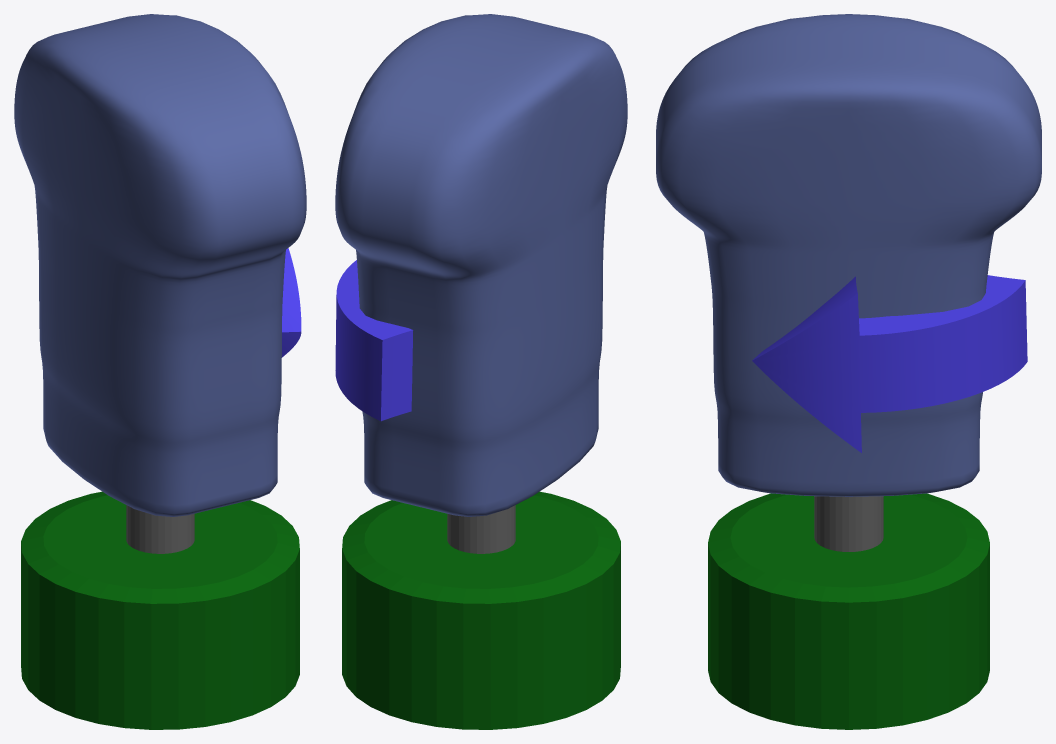
Rendered from Brioche_Bag_Right.fbx.
3 renders of one model, left to right at view 1: azimuth 30°, elevation 25°; view 2: azimuth 150°, elevation 25°; view 3: azimuth 270°, elevation 25°, orthographic.
Parts seen in each view (by area): view 1: BriocheBag, Socle, Cylinder, Right_ARROW; view 2: BriocheBag, Socle, Right_ARROW, Cylinder; view 3: BriocheBag, Socle, Right_ARROW, Cylinder.
Boxes of the visible parts, x1=… form: BriocheBag: x1=14, y1=14, x2=306, y2=516; Socle: x1=21, y1=491, x2=299, y2=729; Cylinder: x1=126, y1=505, x2=194, y2=553; Right_ARROW: x1=281, y1=248, x2=301, y2=357; BriocheBag: x1=335, y1=14, x2=627, y2=516; Socle: x1=342, y1=491, x2=620, y2=729; Right_ARROW: x1=335, y1=260, x2=413, y2=421; Cylinder: x1=447, y1=505, x2=515, y2=553; BriocheBag: x1=656, y1=14, x2=1041, y2=496; Socle: x1=708, y1=493, x2=989, y2=729; Right_ARROW: x1=752, y1=275, x2=1027, y2=452; Cylinder: x1=814, y1=496, x2=883, y2=551.
Bounding box in the file's own units: 316 × 771 × 432.
